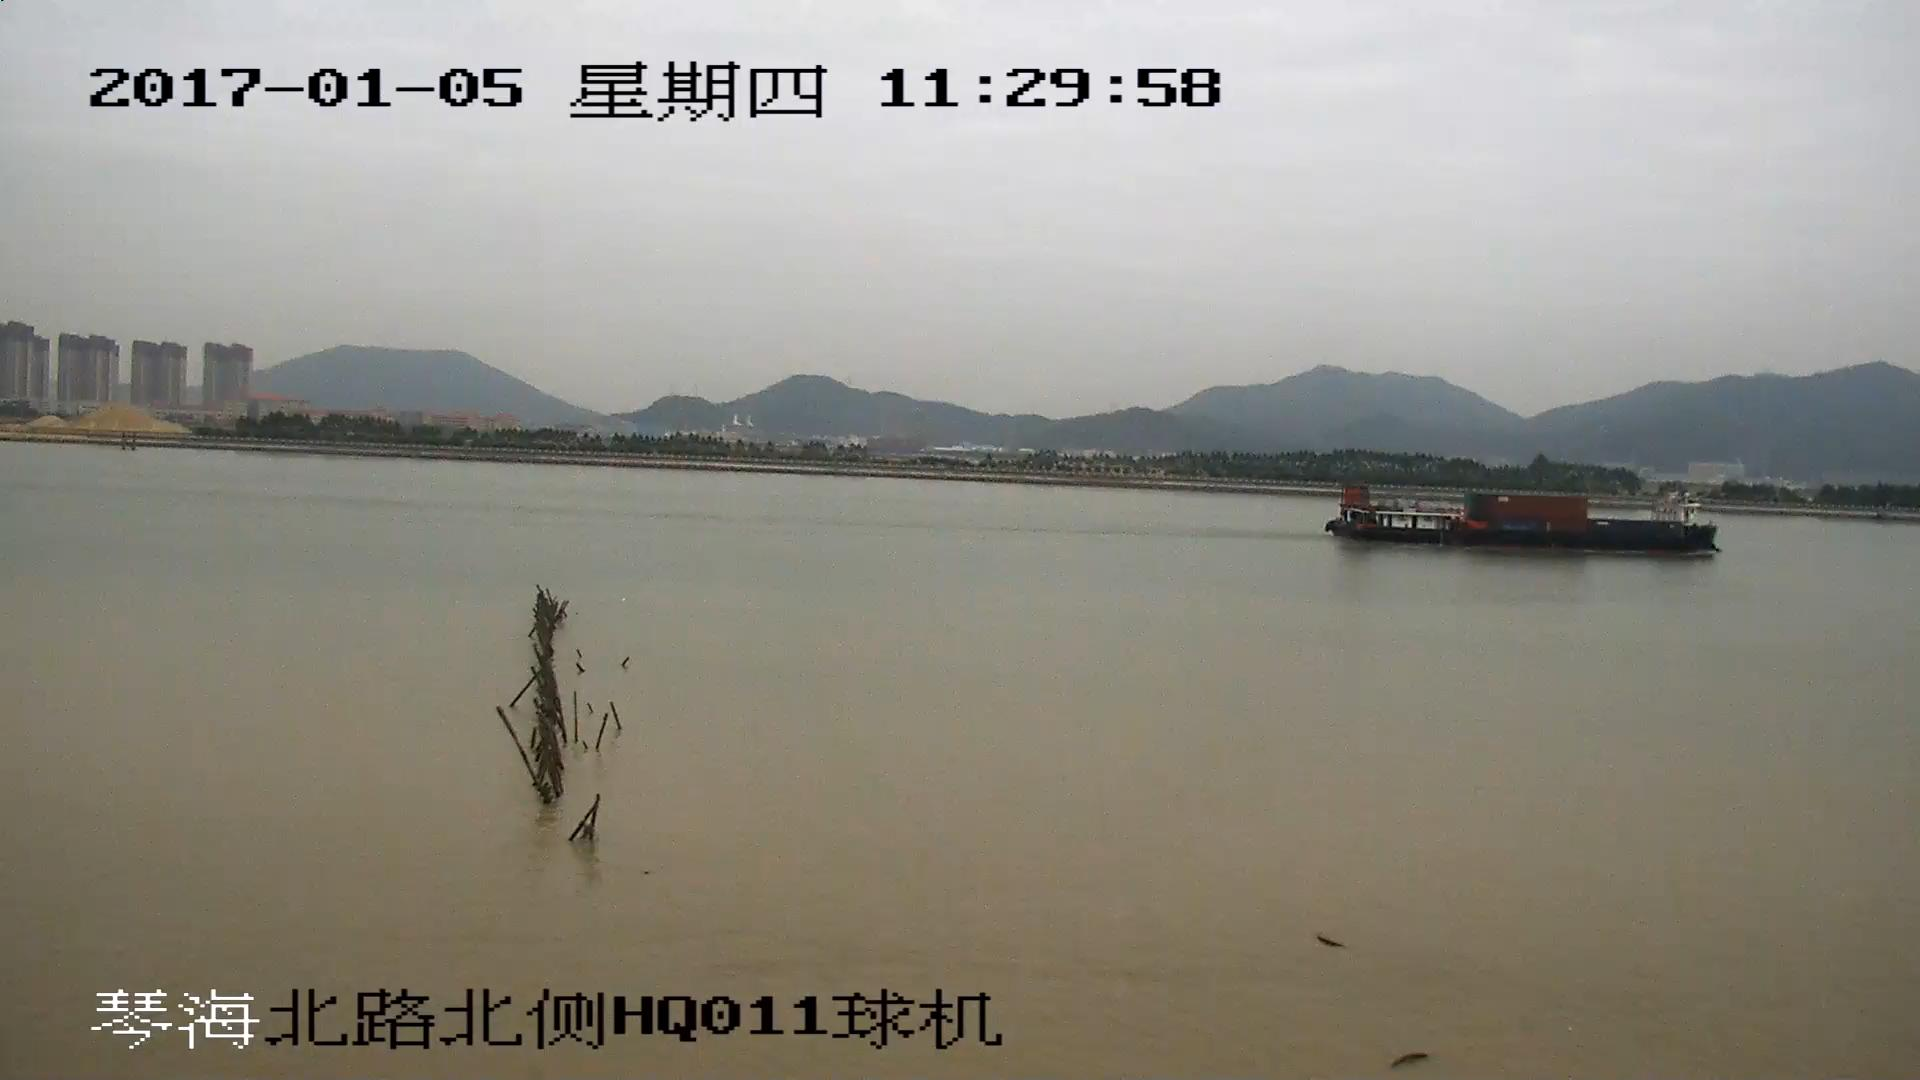container ship: (1328, 481, 1720, 555)
